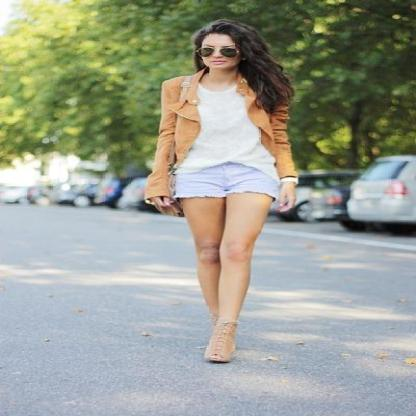bag: (153, 195, 186, 216)
jacket: (146, 74, 302, 205)
shirt: (181, 84, 277, 179)
shoe: (197, 313, 244, 367)
shorts: (174, 160, 286, 198)
sunglass: (218, 44, 240, 69)
